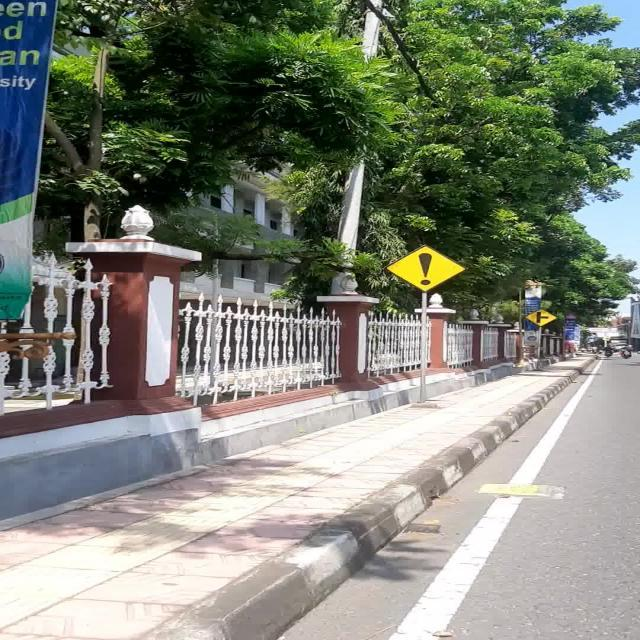Hati-Hati: (386, 244, 468, 292)
